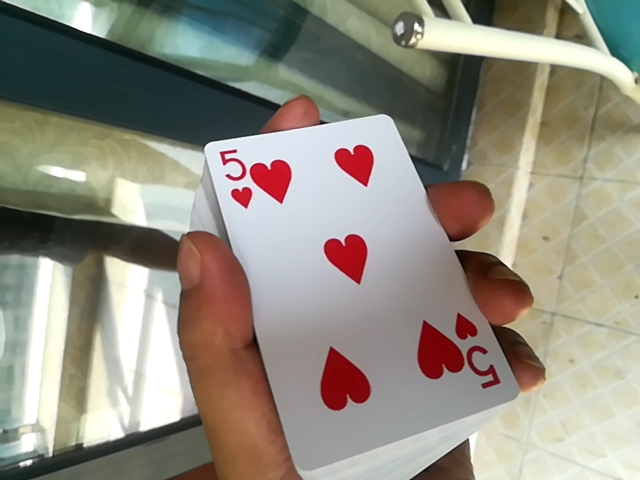hx 5: (179, 102, 494, 454)
